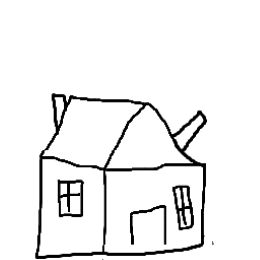bottom_placed_house: (1, 0, 260, 260)
chimney: (163, 97, 214, 155), (42, 86, 86, 136)
closed_window: (166, 183, 201, 230), (52, 178, 88, 220)
door: (120, 191, 176, 258)
roof: (30, 86, 207, 170)
wall: (96, 159, 211, 259)
